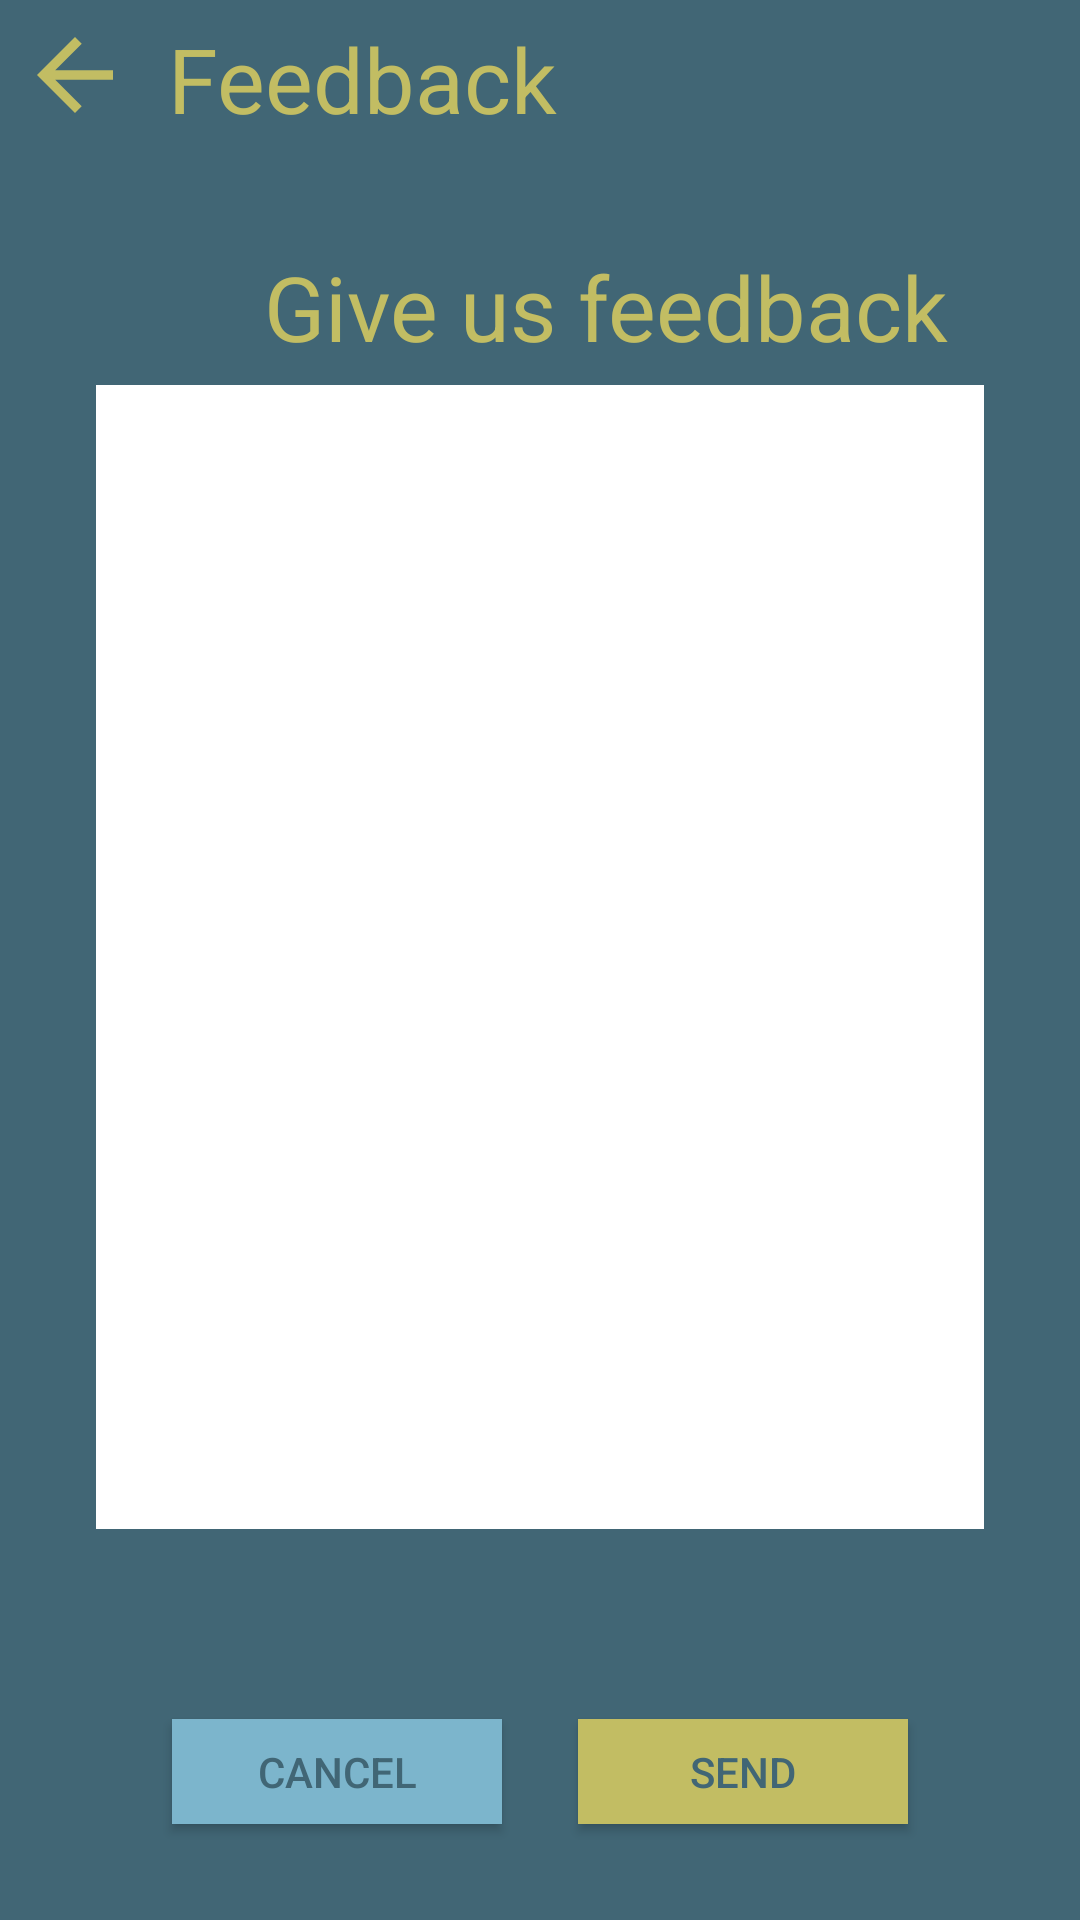

Named icons in this screenshot (1080px x 1920px) and their centers, point (x, y):
arrow: point (75, 75)
